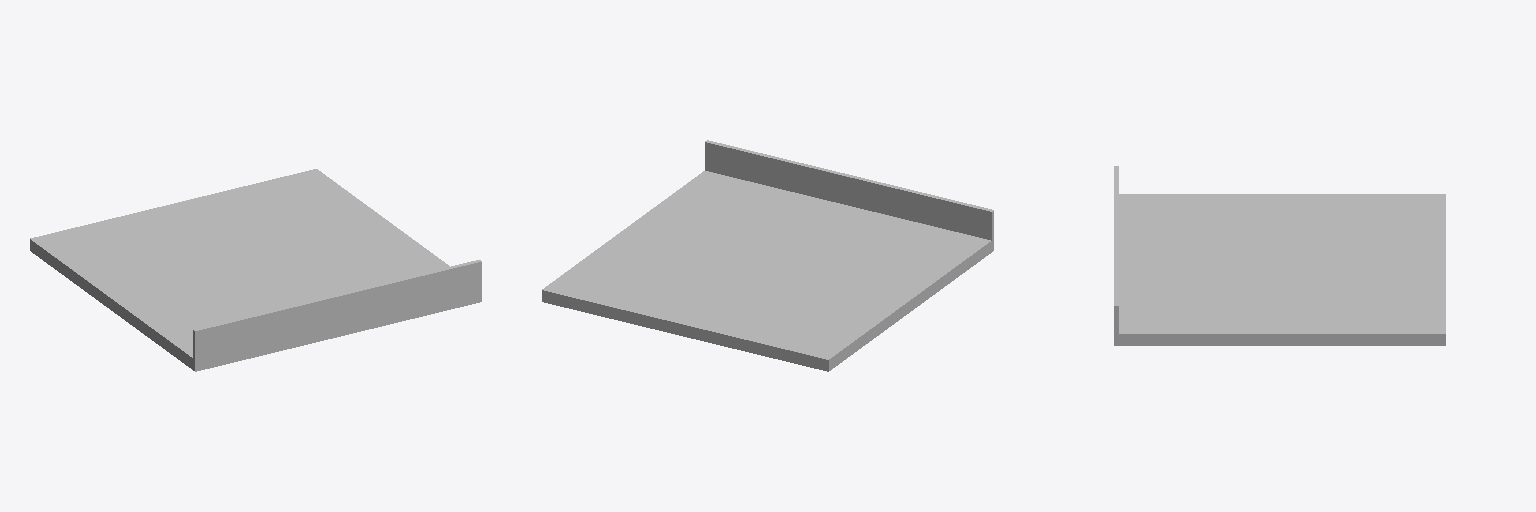
File: 4x2 roof-4.obj
3 views of the same model, side by side, from view 1: azimuth 30°, elevation 25°; view 2: azimuth 150°, elevation 25°; view 3: azimuth 270°, elevation 25° (orthographic).
Parts seen in each view (by area): view 1: 4x2 roof-4; view 2: 4x2 roof-4; view 3: 4x2 roof-4.
Part boxes in pixels (left/top/right/bottom): 4x2 roof-4: left=30, top=169, right=481, bottom=371; 4x2 roof-4: left=542, top=140, right=993, bottom=371; 4x2 roof-4: left=1114, top=166, right=1445, bottom=345.
Size of the model in its own units: 126 by 17 by 126.